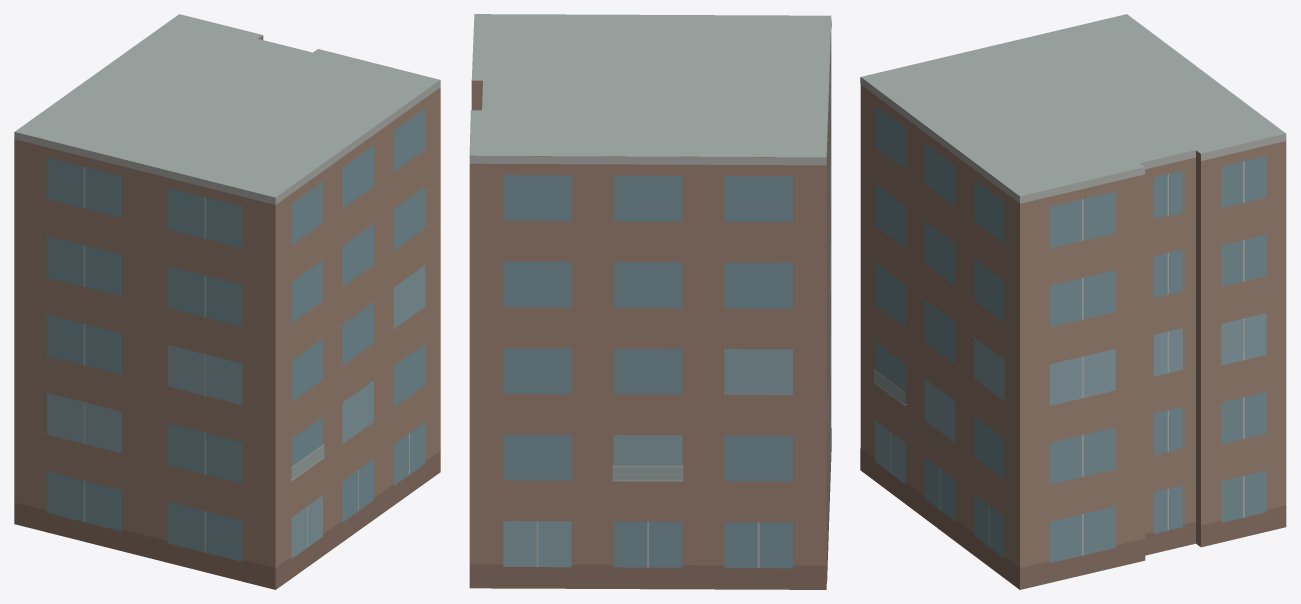
The model's file is survey-upis-32721142.glb.
3 views of the same model, side by side, from view 1: azimuth 30°, elevation 25°; view 2: azimuth 150°, elevation 25°; view 3: azimuth 270°, elevation 25° (orthographic). The views are drawn at different scales.
Visible parts, largest first — view 1: survey-upis-32721142.tmp; view 2: survey-upis-32721142.tmp; view 3: survey-upis-32721142.tmp.
Part boxes in pixels (x1=…): survey-upis-32721142.tmp: x1=14, y1=14, x2=440, y2=589; survey-upis-32721142.tmp: x1=469, y1=14, x2=831, y2=589; survey-upis-32721142.tmp: x1=860, y1=14, x2=1286, y2=589.
Bounding box in the file's own units: 13.14 × 13.2 × 12.96.
